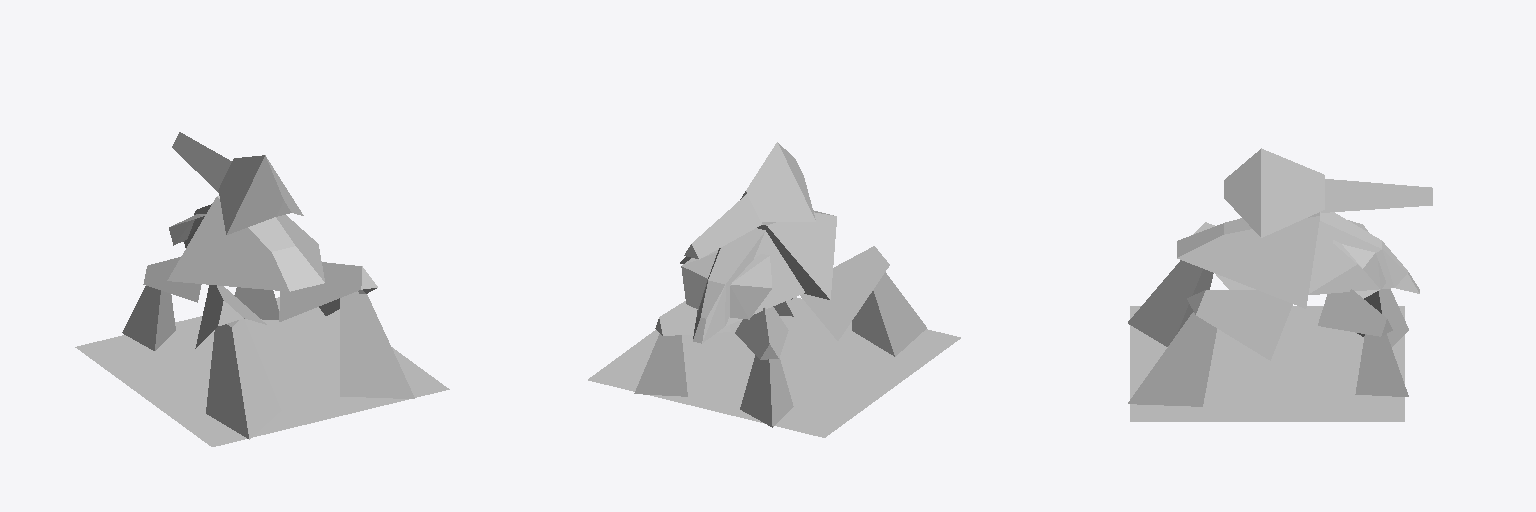
The model's file is flea.obj.
3 views of the same model, side by side, from view 1: azimuth 30°, elevation 25°; view 2: azimuth 150°, elevation 25°; view 3: azimuth 270°, elevation 25° (orthographic).
Bounding box in the file's own units: 17.5 × 15.13 × 19.49.